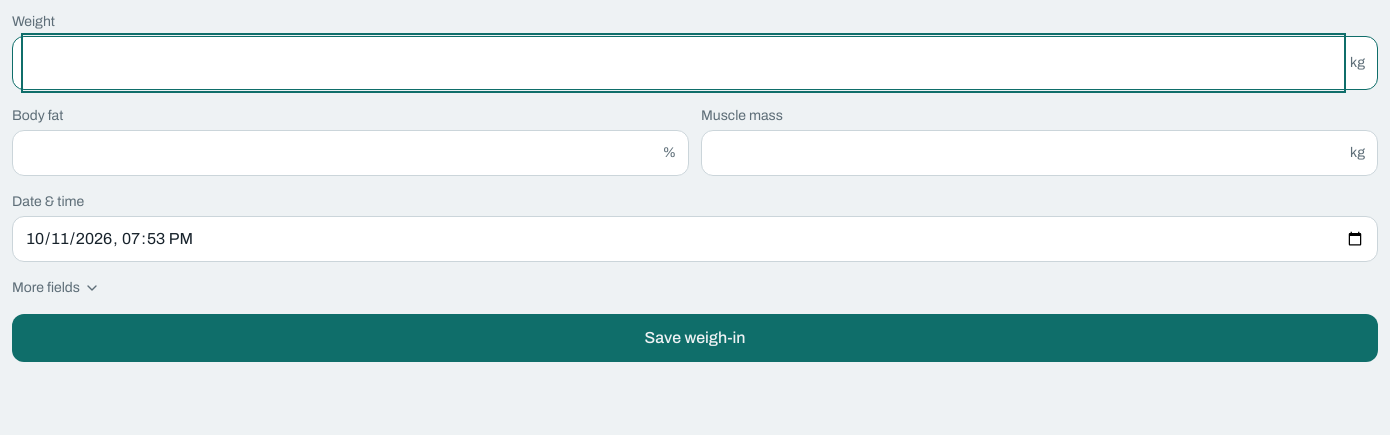
WeighInForm › shows server errors and keeps the input
Type "80" into the field labelled "Weight" at (684, 63), box [25,37,1342,89]
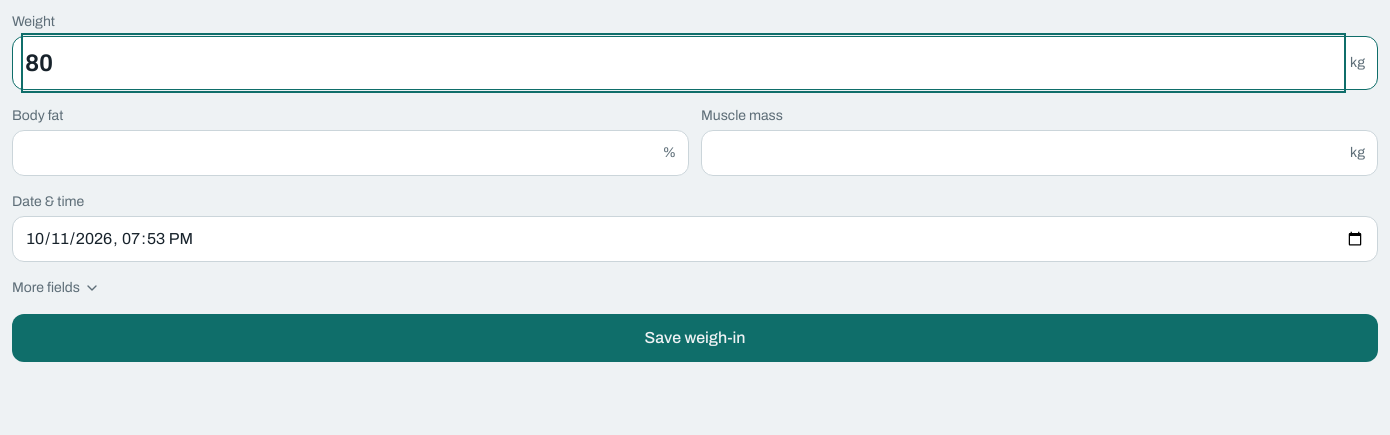
Click the button "Save weigh-in" at (695, 338), box [12,314,1378,362]
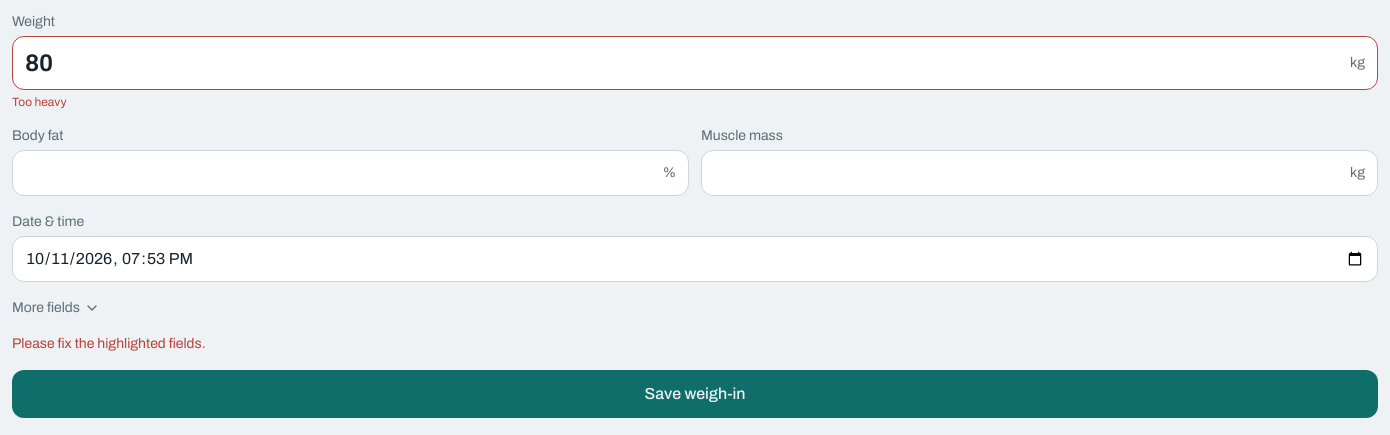
Expected: the text "Too heavy" is shown, [12,95,66,109]
Expected: the message reads "Please fix the highlighted fields.", [12,336,206,351]
